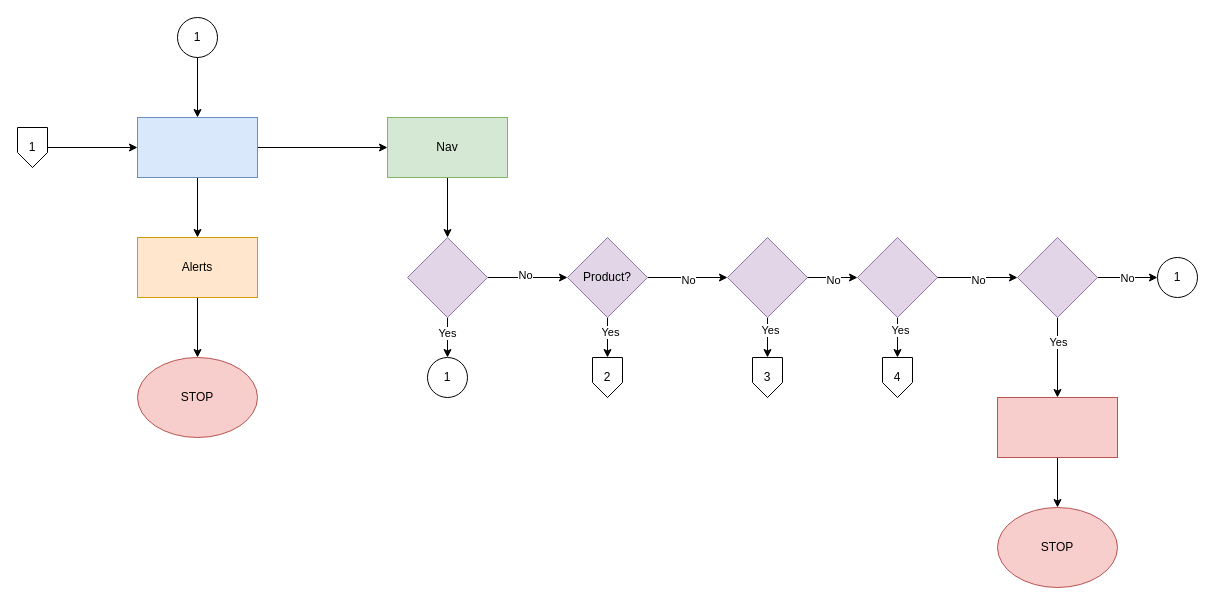
This 1215x605 diagram has some shape labels left out. Each missing label, with the box of its shape:
Client?: (726, 236, 808, 318)
Dashboard: (136, 116, 258, 178)
Dashboard?: (406, 236, 488, 318)
Logout: (996, 396, 1118, 458)
Logout?: (1016, 236, 1098, 318)
Treatments?: (856, 236, 938, 318)
